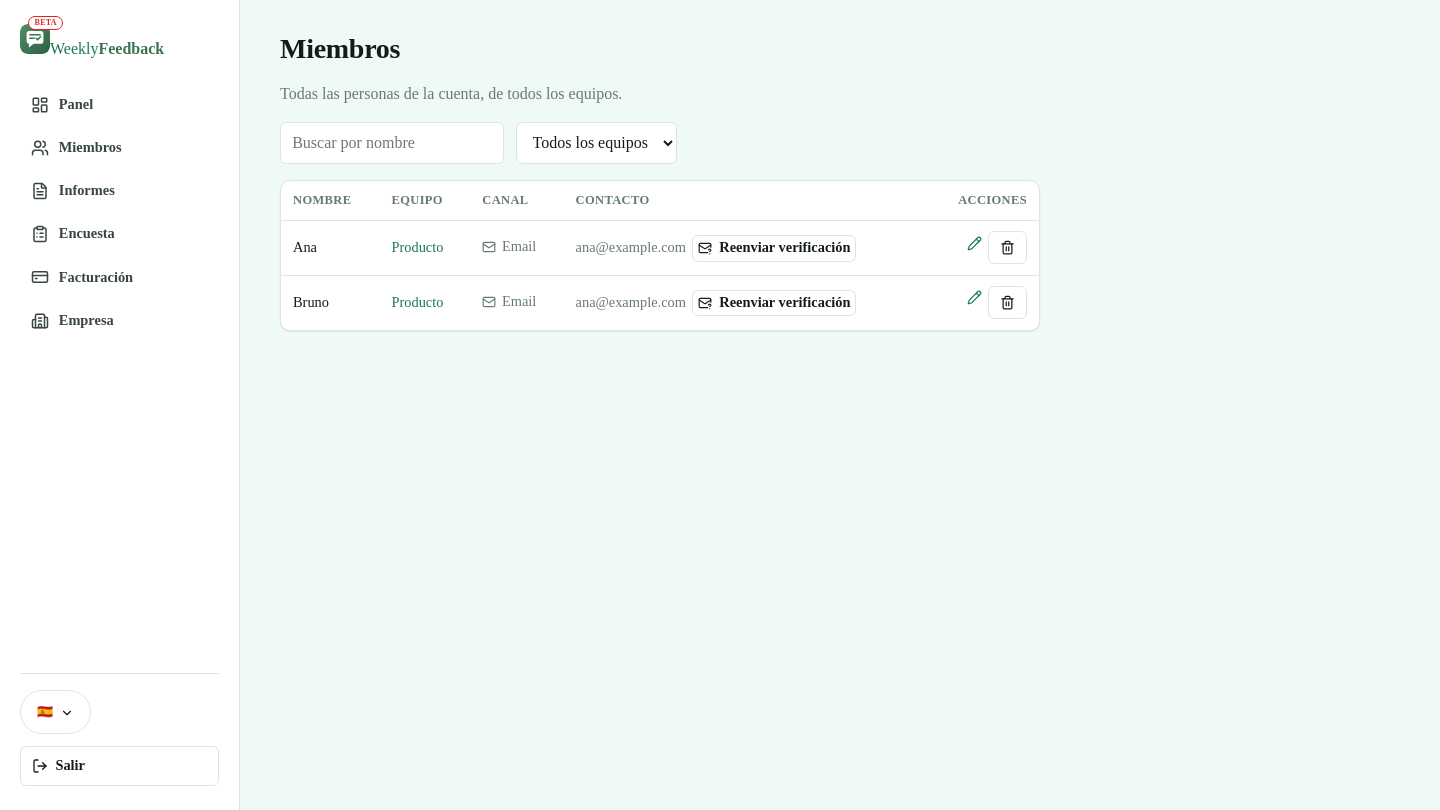
Scenario: AllMembersPage › filtro por nombre: busca sin distinguir mayúsculas, por substring
The width and height of the screenshot is (1440, 810).
Expected: the text "Bruno" is shown, [281,276,380,330]
Type "an" into the field with placeholder "Buscar por nombre" at [392, 143], box [280,122,504,164]
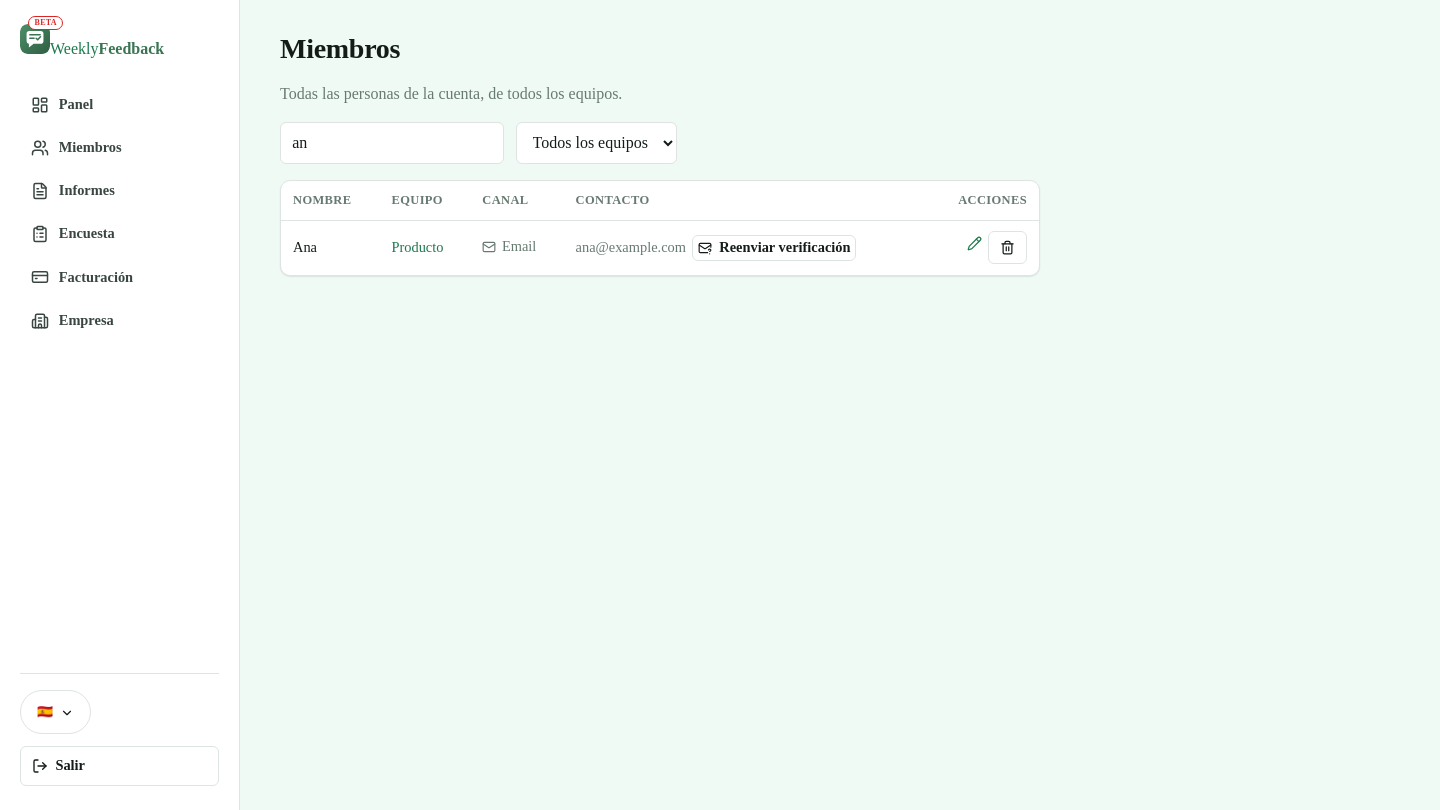
Expected: the text "Ana" is shown, [281,221,380,275]
Result: the text "Bruno" is gone
